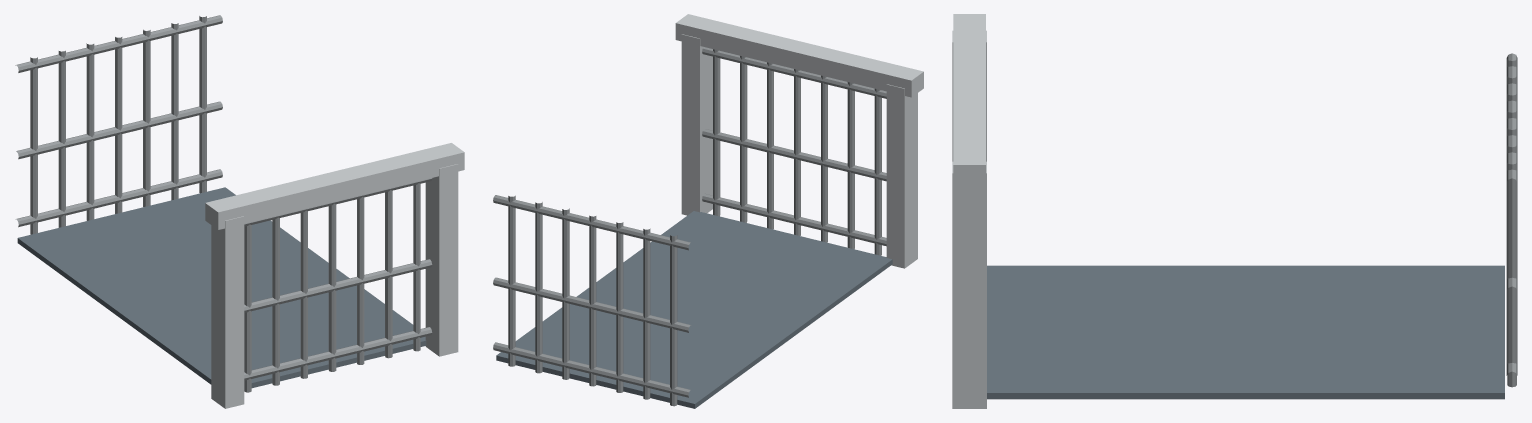
The model's file is desague.glb.
3 views of the same model, side by side, from view 1: azimuth 30°, elevation 25°; view 2: azimuth 150°, elevation 25°; view 3: azimuth 270°, elevation 25° (orthographic). The views are drawn at different scales.
Parts seen in each view (by area): view 1: desague_hierro, desague_sillares; view 2: desague_hierro, desague_sillares; view 3: desague_hierro, desague_sillares.
Boxes of the visible parts, box(x1,y1,x2,y2) form: desague_hierro: box(15, 15, 432, 392); desague_sillares: box(205, 143, 464, 408); desague_hierro: box(493, 47, 892, 408); desague_sillares: box(675, 14, 923, 268); desague_hierro: box(987, 53, 1517, 399); desague_sillares: box(952, 14, 986, 408).
Bounding box in the file's own units: 3.5 × 2.68 × 5.55.
